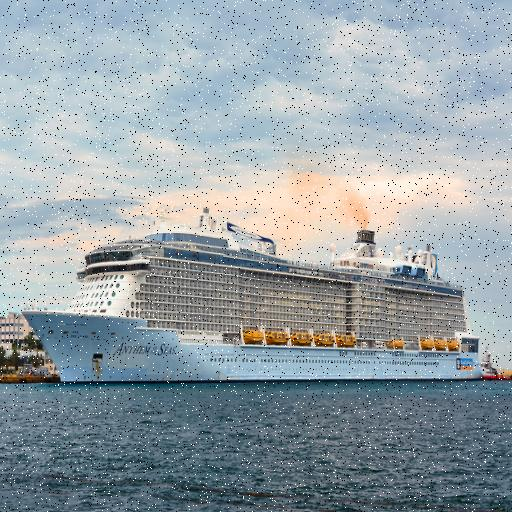cruises: (20, 203, 490, 390)
